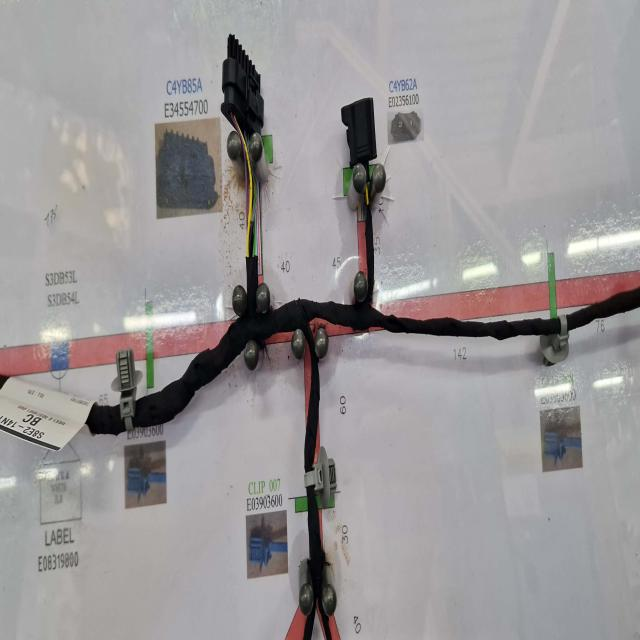Clip: (110, 352, 135, 434), (308, 447, 340, 510), (539, 312, 568, 361)
Connector: (221, 32, 264, 133), (340, 96, 375, 167)
Gape: (238, 137, 261, 251), (362, 166, 376, 214)
Info: (0, 378, 99, 452)
MHEV_N11_Cable: (135, 295, 636, 640), (91, 402, 126, 432)
